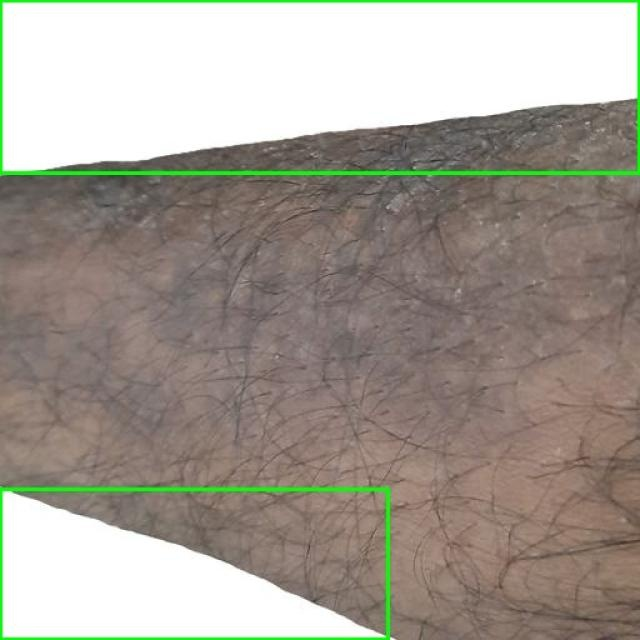Contact Dermatitis: (0, 0, 639, 172), (0, 489, 388, 639)
